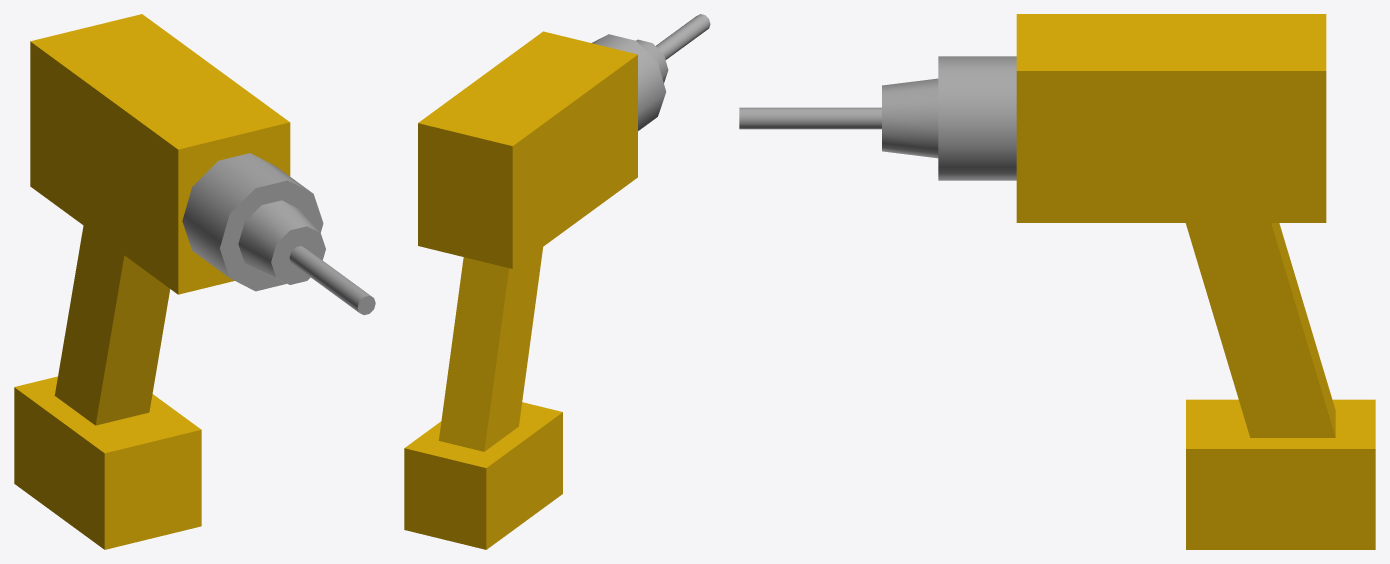
File: SM_Prop_Drill.fbx
3 views of the same model, side by side, from view 1: azimuth 30°, elevation 25°; view 2: azimuth 150°, elevation 25°; view 3: azimuth 270°, elevation 25° (orthographic). The views are drawn at different scales.
Parts seen in each view (by area): view 1: SM_Prop_Drill; view 2: SM_Prop_Drill; view 3: SM_Prop_Drill.
Boxes of the visible parts, <box> form: SM_Prop_Drill: <box>14,14,375,549</box>; SM_Prop_Drill: <box>404,14,710,549</box>; SM_Prop_Drill: <box>739,14,1375,549</box>.
Size of the model in its own units: 5.63 by 22.17 by 26.48.
